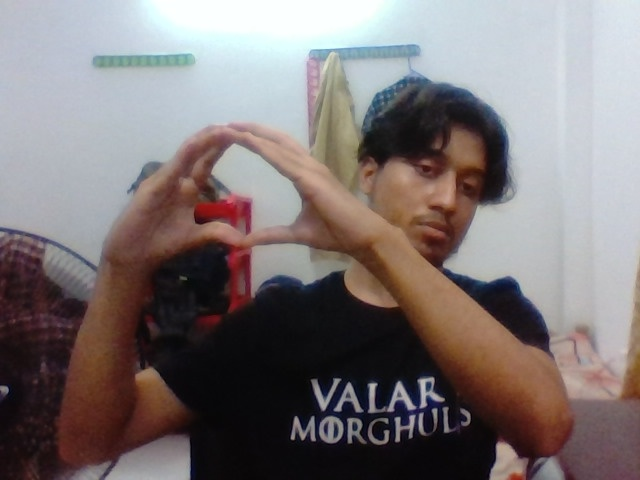O: (114, 107, 351, 274)
